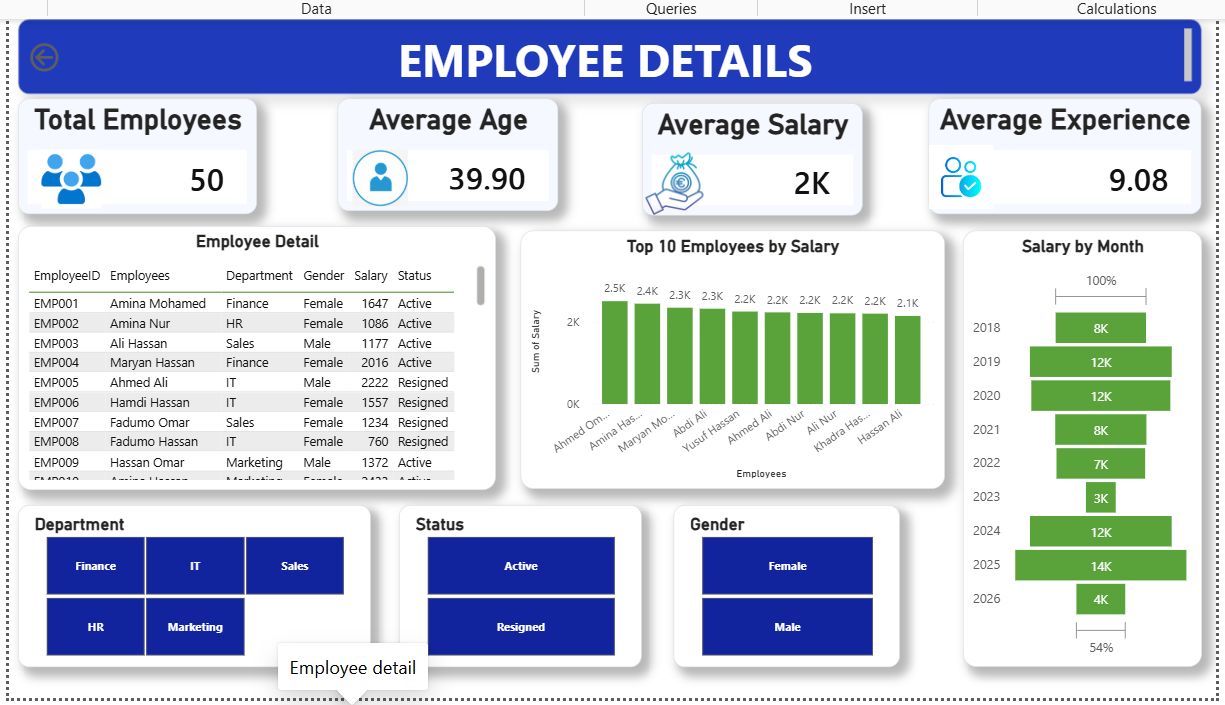

Layout of this report page (visuals, bound fields, positions):
{"tool":"powerbi","page":{"name":"Employee detail","canvas":[1280,720],"ordinal":1},"visuals":[{"type":"textbox","box":[10,0,1255,80],"z":0},{"type":"cardVisual","title":"Total Employees","fields":{"Data":["CountNonNull(HR_Data.EmployeeID)"]},"box":[9.4,85,253.2,122.8],"z":1000},{"type":"image","box":[26.5,137.7,77.8,63],"z":2000},{"type":"cardVisual","title":"Average Salary","fields":{"Data":["Avg(HR_Data.Salary)"]},"box":[670.9,88.8,234.3,119.1],"z":3000},{"type":"image","box":[670.9,141.7,68,66],"z":4000},{"type":"cardVisual","title":"Average Age","fields":{"Data":["Avg(HR_Data.Age)"]},"box":[348.3,85,234.3,119.1],"z":5000},{"type":"image","box":[347.7,138,90.7,60.5],"z":6000},{"type":"cardVisual","title":"Average Experience","fields":{"Data":["Avg(HR_Data.Experience)"]},"box":[975.1,85,289.1,122.8],"z":7000},{"type":"image","box":[975.1,134.2,69.9,68],"z":8000},{"type":"tableEx","title":"Employee Detail","fields":{"Values":["HR_Data.EmployeeID","HR_Data.Employees","HR_Data.Department","HR_Data.Gender","HR_Data.Salary","HR_Data.Status"]},"box":[9.4,219.2,506.5,279.7],"z":9000},{"type":"columnChart","title":"Top 10 Employees by Salary","fields":{"Category":["HR_Data.Employees"],"Y":["Sum(HR_Data.Salary)"]},"box":[542.4,224.9,449.8,274],"z":10000},{"type":"slicer","fields":{"Values":["HR_Data.Department"]},"box":[9.4,515.9,374.2,172],"z":11000},{"type":"slicer","fields":{"Values":["HR_Data.Status"]},"box":[413.9,515.9,257,172],"z":12000},{"type":"slicer","fields":{"Values":["HR_Data.Gender"]},"box":[704.9,515.9,240,172],"z":13000},{"type":"actionButton","box":[17,20.8,100,40],"z":14000},{"type":"funnel","title":"Salary by Month","fields":{"Y":["Sum(HR_Data.Salary)"],"Category":["HR_Data.HireDate.Variation.Date Hierarchy.Year"]},"box":[1011,224.9,253.2,463],"z":15000}]}

Visuals, with their boxes on the page's 1280x720 design canvas (x1, y1, x2, y2). These are canvas units, not pixel positions in the 1225x705 screenshot, which may show the page scaled, cropped or inside an application window:
textbox: 10, 0, 1265, 80
"Total Employees" cardVisual: 9, 85, 263, 208
image: 26, 138, 104, 201
"Average Salary" cardVisual: 671, 89, 905, 208
image: 671, 142, 739, 208
"Average Age" cardVisual: 348, 85, 583, 204
image: 348, 138, 438, 198
"Average Experience" cardVisual: 975, 85, 1264, 208
image: 975, 134, 1045, 202
"Employee Detail" tableEx: 9, 219, 516, 499
"Top 10 Employees by Salary" columnChart: 542, 225, 992, 499
slicer - HR_Data.Department: 9, 516, 384, 688
slicer - HR_Data.Status: 414, 516, 671, 688
slicer - HR_Data.Gender: 705, 516, 945, 688
actionButton: 17, 21, 117, 61
"Salary by Month" funnel: 1011, 225, 1264, 688
